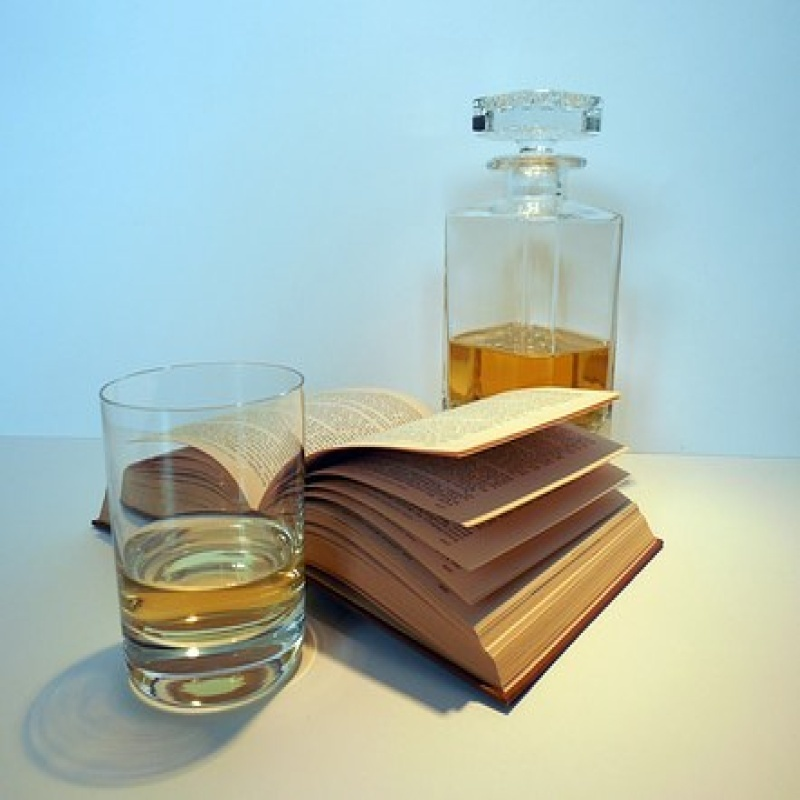whiskey: (94, 360, 330, 721)
